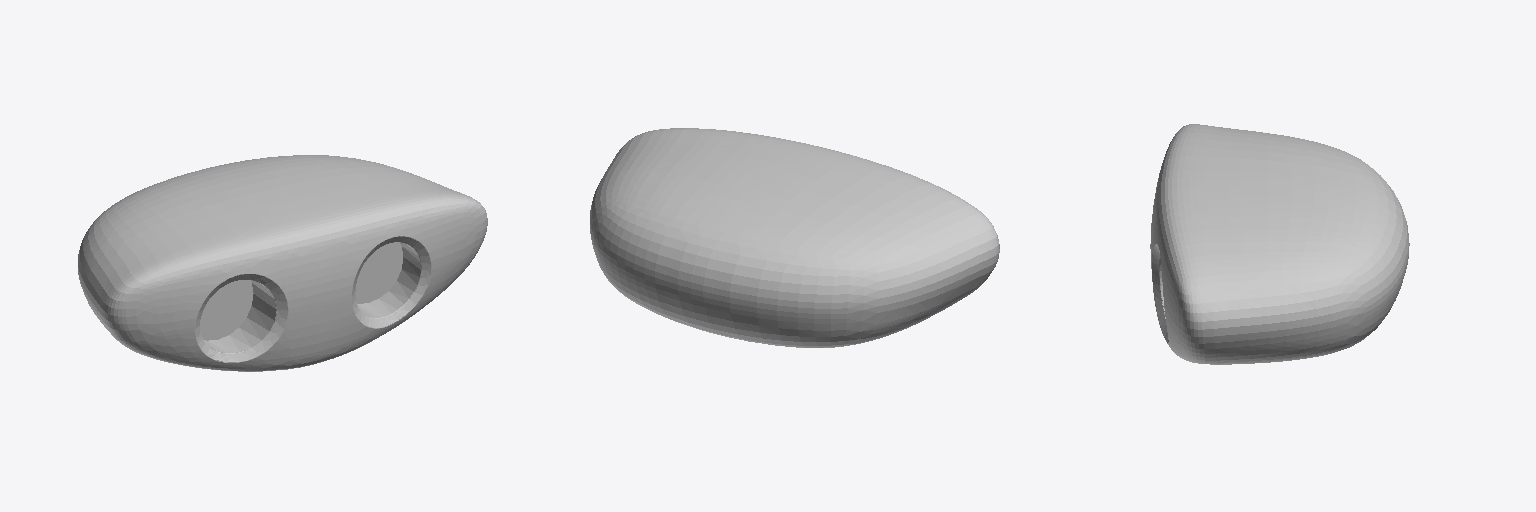
Rendered from head.obj.
The picture shows the model from 3 angles: view 1: azimuth 30°, elevation 25°; view 2: azimuth 150°, elevation 25°; view 3: azimuth 270°, elevation 25°; orthographic projection.
Parts seen in each view (by area): view 1: MeshBody1; view 2: MeshBody1; view 3: MeshBody1.
Part boxes in pixels (x1,y1,x2,y2): MeshBody1: (78, 155, 487, 371); MeshBody1: (590, 128, 999, 347); MeshBody1: (1150, 124, 1409, 364).
Size of the model in its own units: 49.61 by 17.61 by 29.34.